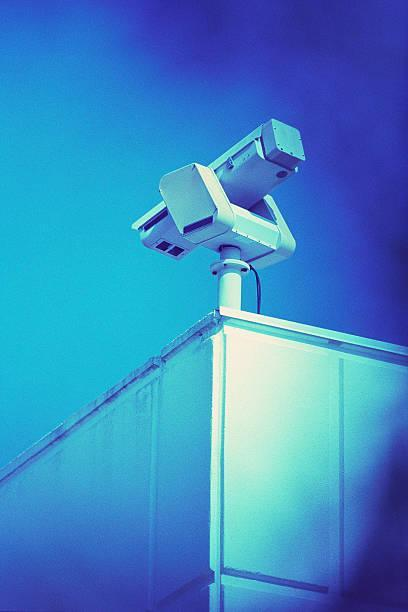camera: (115, 112, 330, 272)
